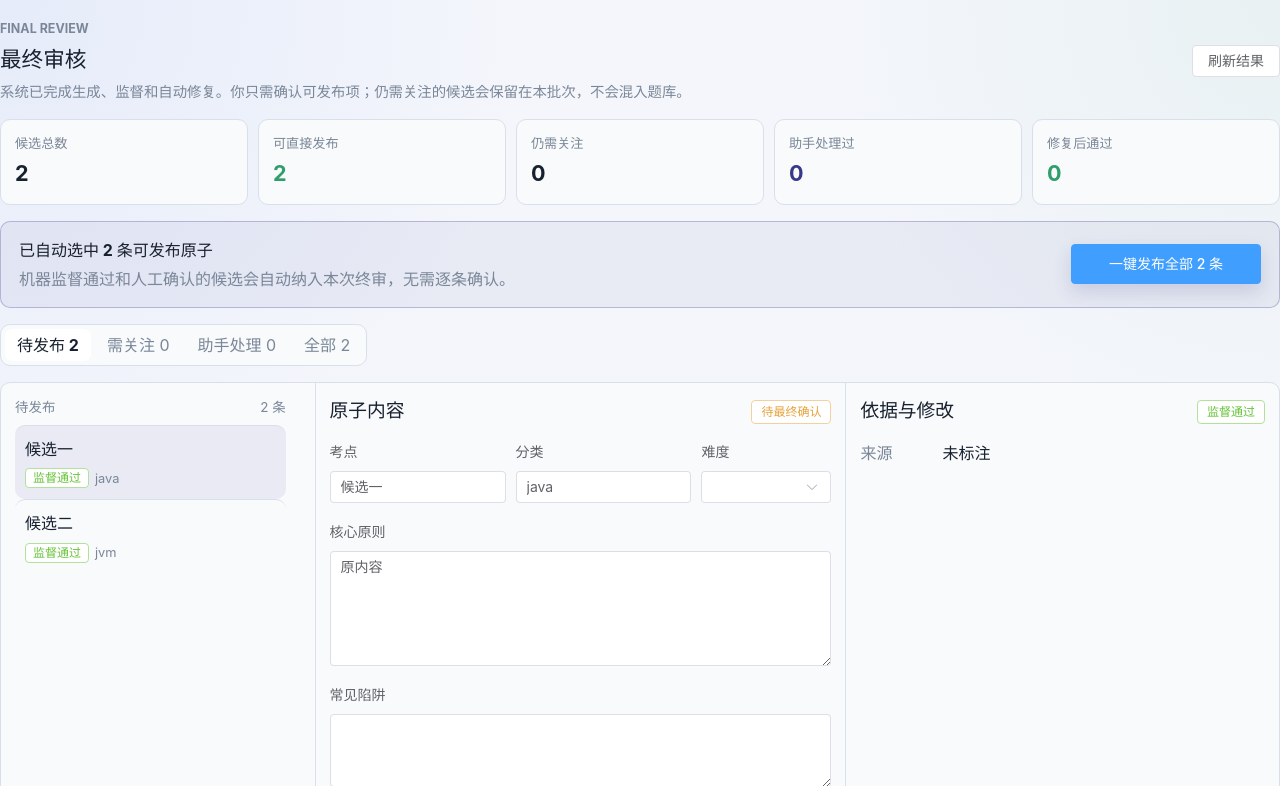
QuestionBankCandidateReviewPanel › blocks finalization and navigation until unsaved edits are explicitly discarded
Replace the text in the text box below "核心原则" with "尚未保存的新内容": (581, 608) [330,551,832,666]
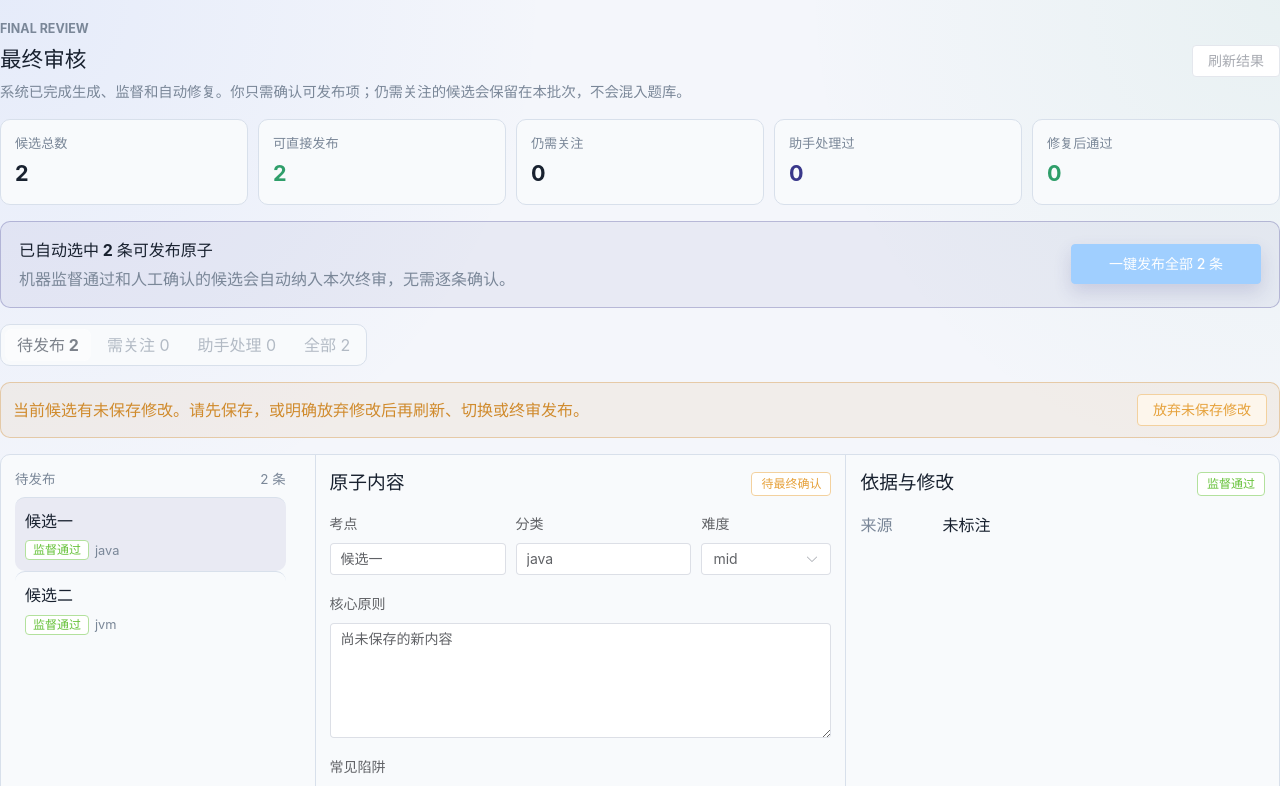
expect the element with test id "dirty-warning" is shown: met, box [0,382,1279,438]
expect the button with test id "finalize-build" is disabled: met, box [1071,244,1261,284]
expect the button with test id "refresh-results" is disabled: met, box [1192,45,1279,77]
Click the button with test id "discard-editor": click(1202, 410) [1137,394,1267,426]
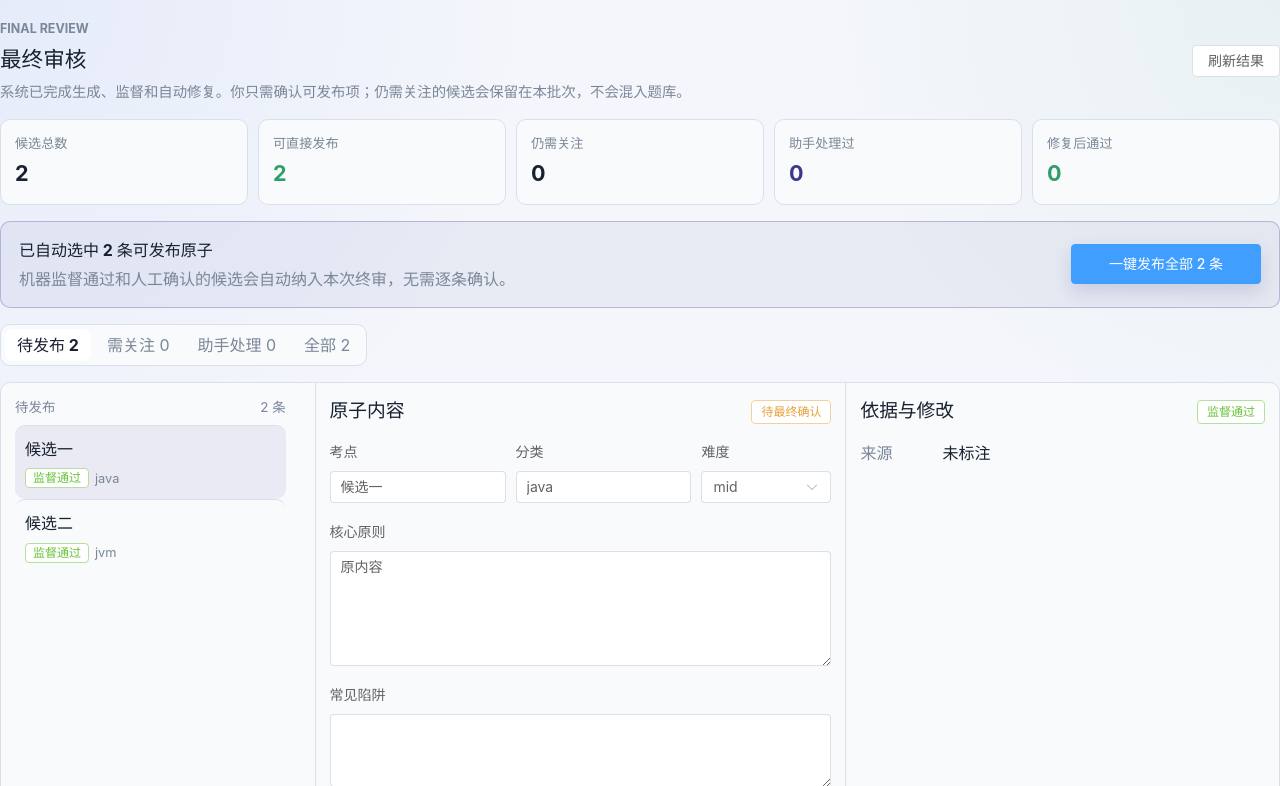
expect the text box labelled "核心原则" holds "原内容": met, box [330,551,832,666]
expect the button with test id "finalize-build" is enabled: met, box [1071,244,1261,284]
